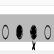correct: (15, 15, 24, 42)
not correct: (29, 21, 38, 51)
